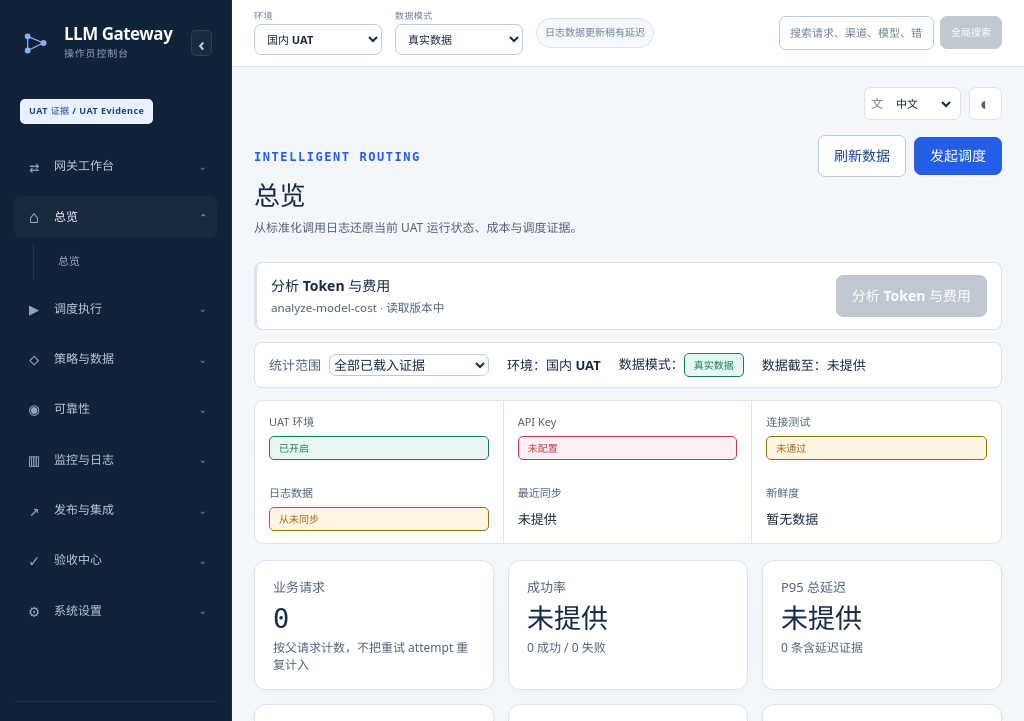
Test: top search button navigates to grouped local search and preserves environment scope
The width and height of the screenshot is (1024, 721).
Select "国内 UAT" in the dropdown named "全局环境筛选": (318, 39) x1=254 y1=24 x2=382 y2=55
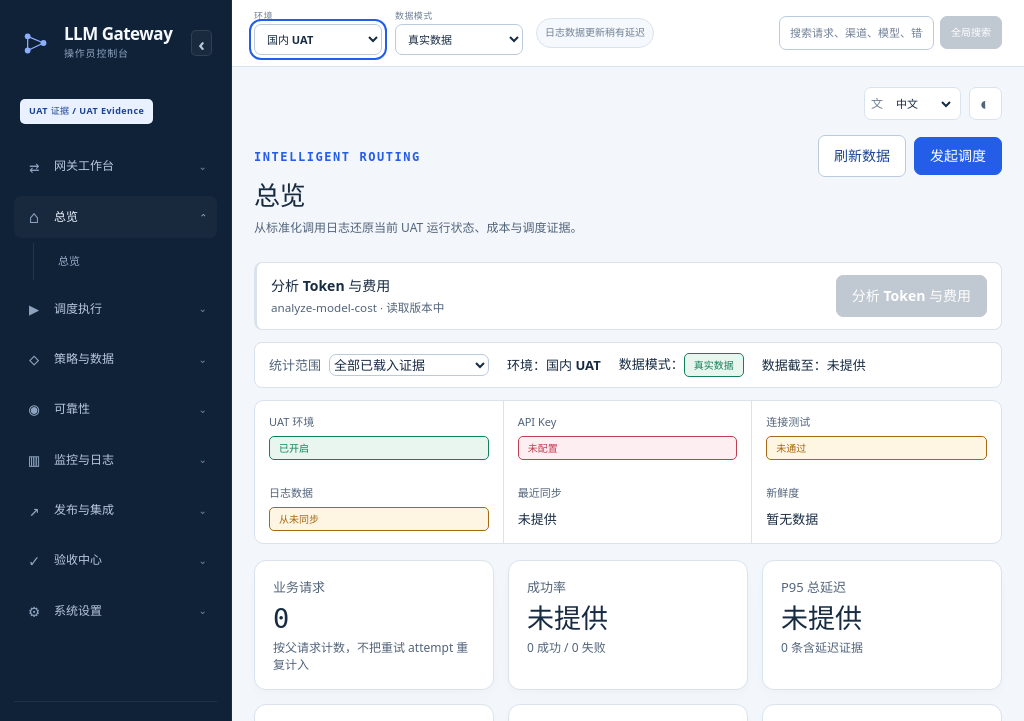
In the field named "全局搜索关键词": (856, 33) x1=779 y1=16 x2=934 y2=50, type "水循环"
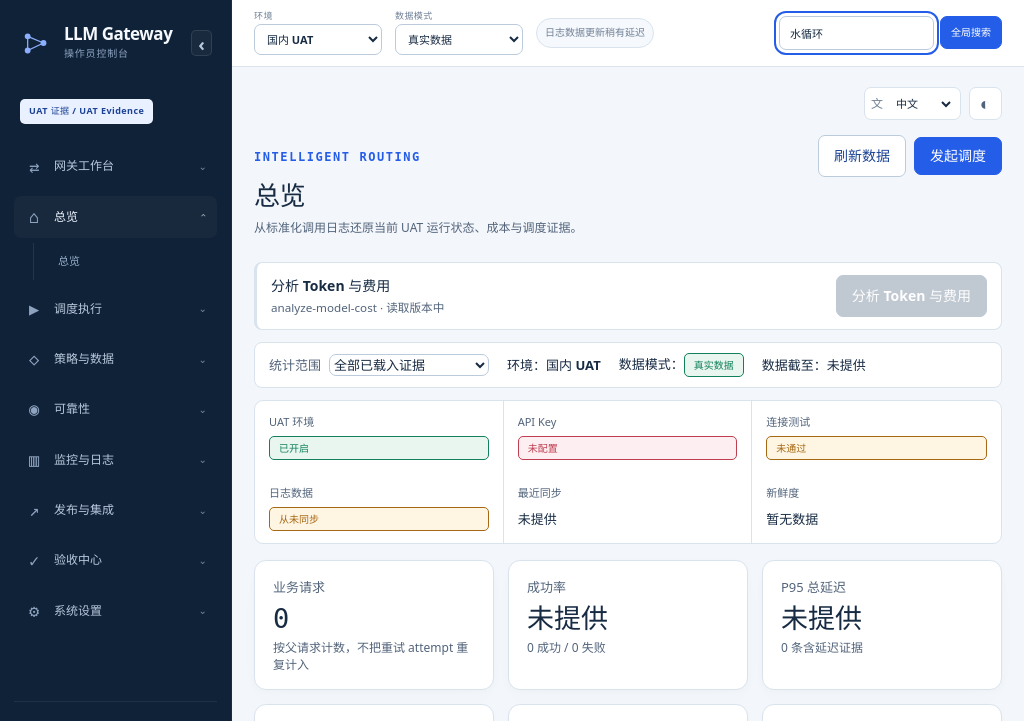
Click the button "全局搜索": (971, 33) x1=940 y1=16 x2=1002 y2=49
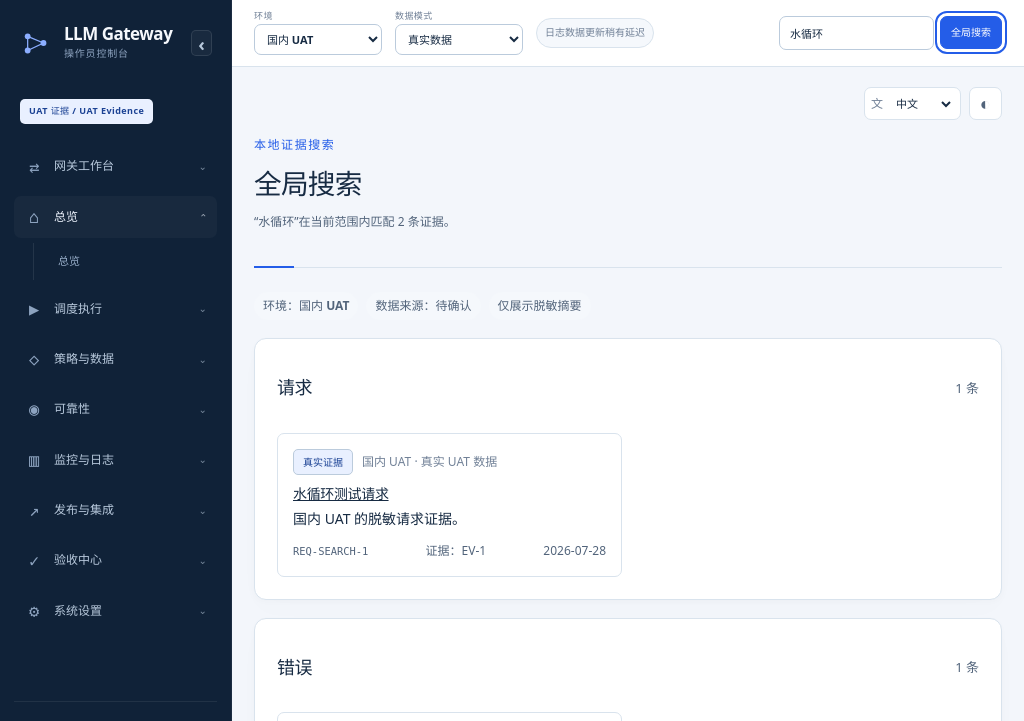
Result: the heading "全局搜索" is shown at x1=254 y1=164 x2=362 y2=202
Result: the heading "请求" is shown at x1=277 y1=376 x2=312 y2=399
Result: the link "水循环测试请求" is shown at x1=293 y1=484 x2=389 y2=503
